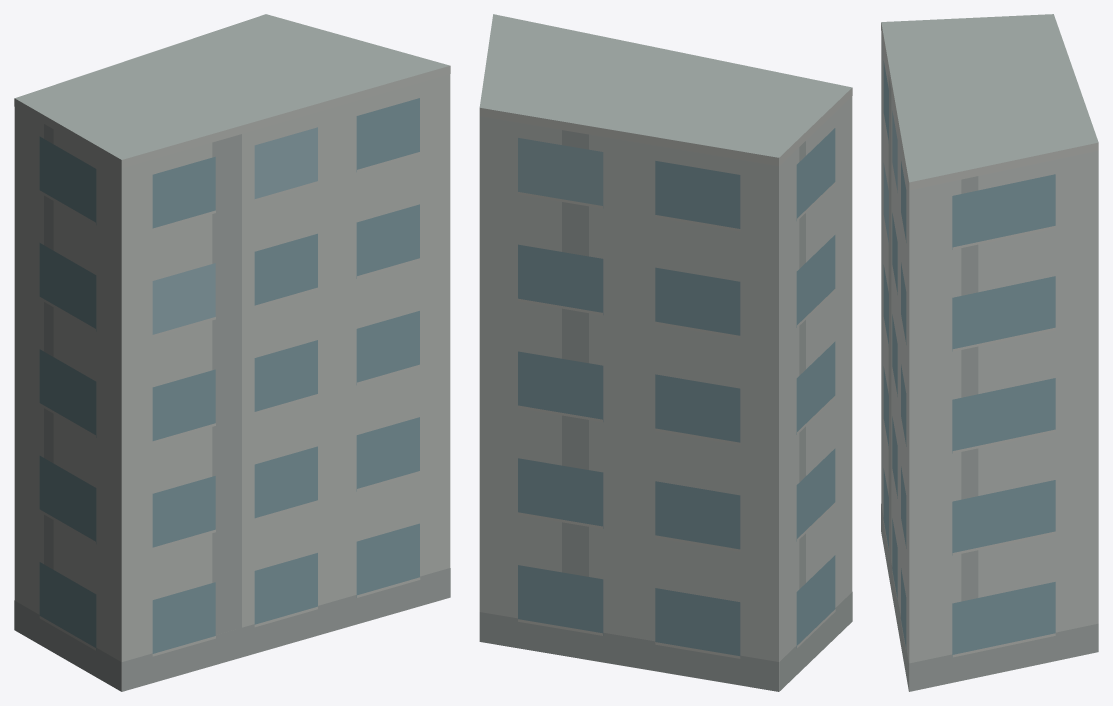
The model's file is survey-upis-32471151.glb.
3 views of the same model, side by side, from view 1: azimuth 30°, elevation 25°; view 2: azimuth 150°, elevation 25°; view 3: azimuth 270°, elevation 25° (orthographic). The views are drawn at different scales.
Visible parts, largest first — view 1: survey-upis-32471151.tmp; view 2: survey-upis-32471151.tmp; view 3: survey-upis-32471151.tmp.
Part boxes in pixels (left/top/right/bottom): survey-upis-32471151.tmp: left=14, top=14, right=450, bottom=691; survey-upis-32471151.tmp: left=479, top=14, right=852, bottom=691; survey-upis-32471151.tmp: left=881, top=14, right=1098, bottom=691.
Bounding box in the file's own units: 10.82 × 15.25 × 5.91.
